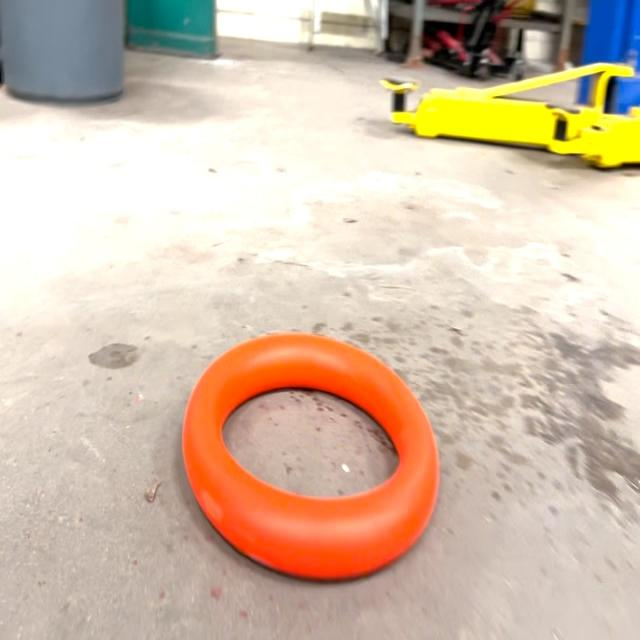note: (180, 329, 440, 587)
